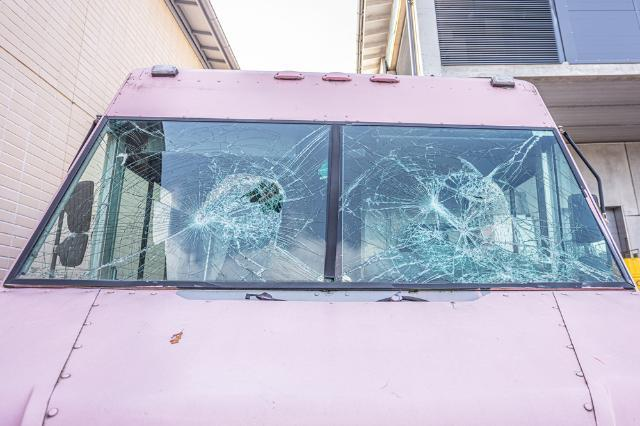glass shatter: (13, 119, 332, 283), (340, 125, 627, 285)
